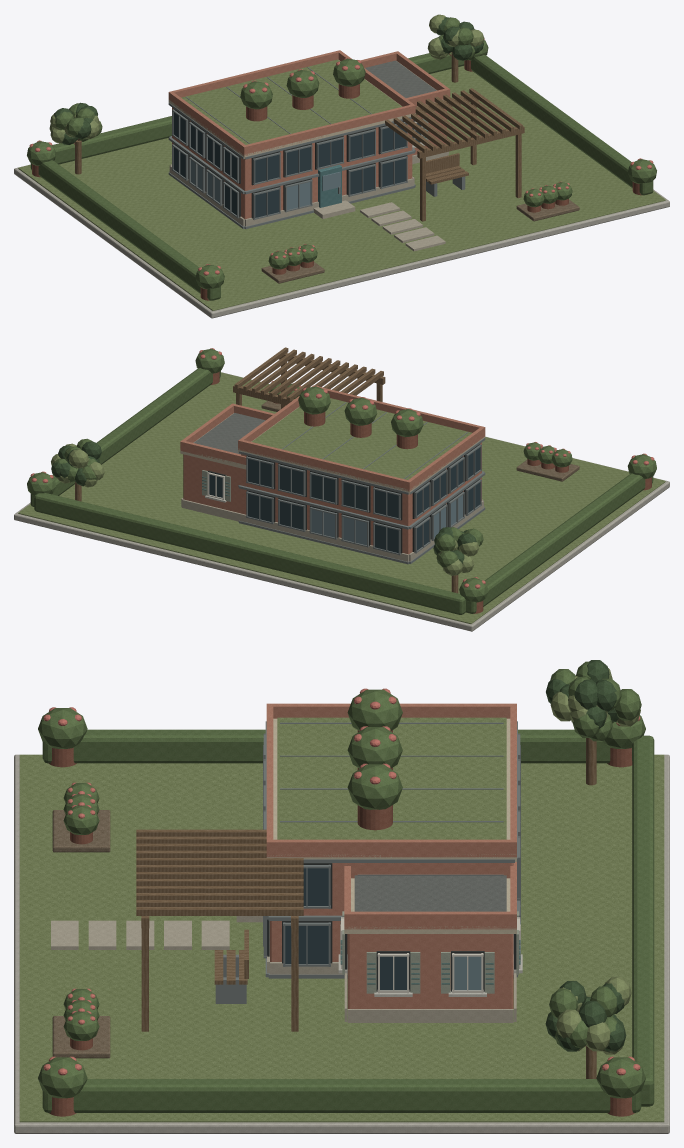
Rendered from EXP_VILLA_PATIO.glb.
3 renders of one model, top to bottom at view 1: azimuth 30°, elevation 25°; view 2: azimuth 150°, elevation 25°; view 3: azimuth 270°, elevation 25°, orthographic. The views are drawn at different scales.
Visible parts, largest first — view 1: EXP_VILLA_PATIO_Visual; view 2: EXP_VILLA_PATIO_Visual; view 3: EXP_VILLA_PATIO_Visual.
Boxes of the visible parts, <box> form: EXP_VILLA_PATIO_Visual: <box>14,14,669,318</box>; EXP_VILLA_PATIO_Visual: <box>14,347,669,631</box>; EXP_VILLA_PATIO_Visual: <box>14,660,669,1133</box>.
Size of what is drawn, in the model's own units: 7.92 by 1.96 by 5.92.
Materials: 22 (17 with a texture image).
